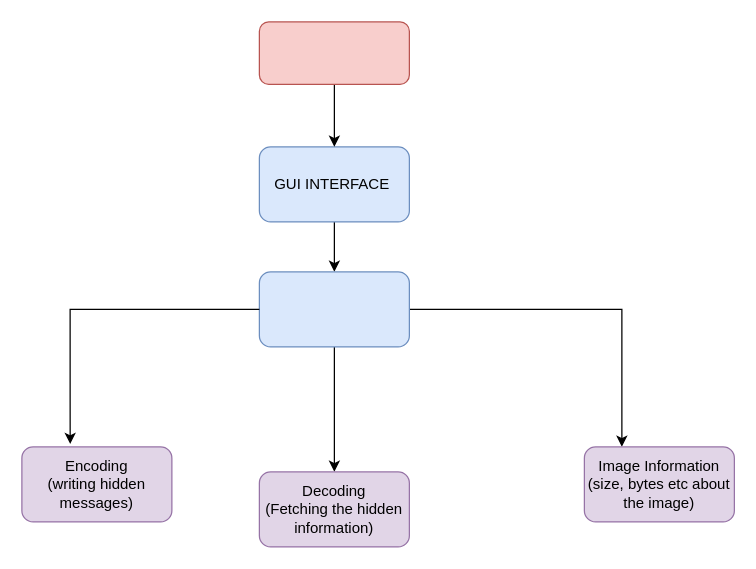
The diagram is 756 pixels wide and 569 high, and some of its shapes have lost their labels. Each missing label, with the centre of its shape:
"Buttons" goes at (x=333, y=309).
"user" goes at (x=333, y=52).
